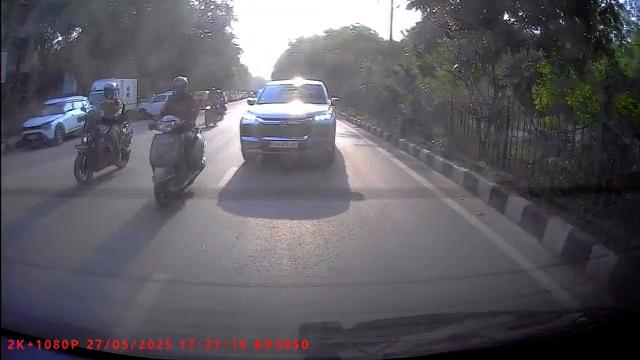motorcycle_with_helmet: (148, 73, 207, 209), (71, 79, 132, 187)
